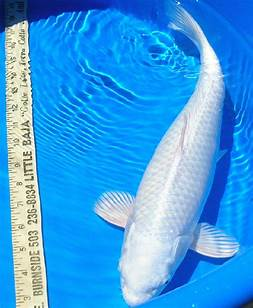white: (93, 1, 239, 306)
